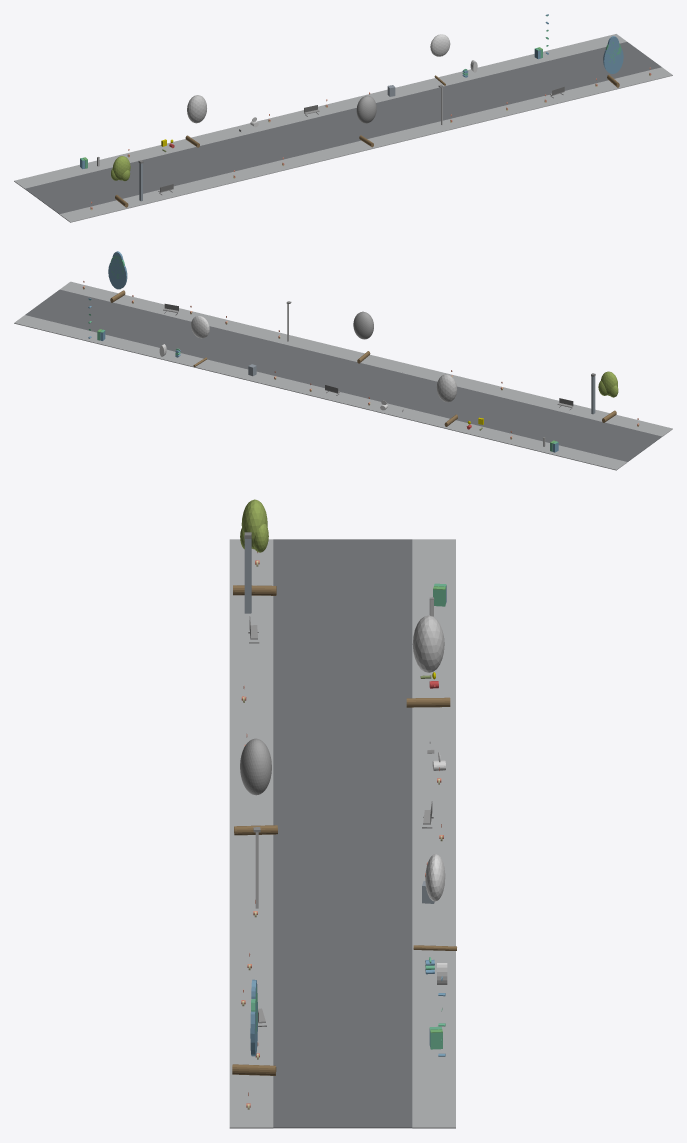
The picture shows the model from 3 angles, top to bottom: view 1: azimuth 30°, elevation 25°; view 2: azimuth 150°, elevation 25°; view 3: azimuth 270°, elevation 25°; orthographic projection. The views are drawn at different scales.
Parts seen in each view (by area): view 1: road_slab, sidewalk_left, sidewalk_right, inst_0016, inst_0013, inst_0014, inst_0012, inst_0015; view 2: road_slab, sidewalk_right, sidewalk_left, inst_0016, inst_0013, inst_0014, inst_0012, inst_0015; view 3: road_slab, sidewalk_left, sidewalk_right, inst_0013, inst_0014, inst_0012, inst_0016, inst_0015.
Part boxes in pixels (left/top/right/bottom): road_slab: left=25, top=42, right=661, bottom=214; sidewalk_left: left=59, top=67, right=672, bottom=222; sidewalk_right: left=14, top=34, right=626, bottom=188; inst_0016: left=603, top=36, right=623, bottom=87; inst_0013: left=185, top=95, right=206, bottom=147; inst_0014: left=356, top=95, right=376, bottom=147; inst_0012: left=111, top=156, right=130, bottom=207; inst_0015: left=430, top=34, right=450, bottom=85; road_slab: left=25, top=289, right=661, bottom=461; sidewalk_right: left=14, top=315, right=627, bottom=470; sidewalk_left: left=60, top=281, right=672, bottom=436; inst_0016: left=108, top=251, right=127, bottom=302; inst_0013: left=436, top=374, right=457, bottom=426; inst_0014: left=353, top=311, right=373, bottom=363; inst_0012: left=598, top=371, right=618, bottom=422; inst_0015: left=191, top=315, right=209, bottom=367; road_slab: left=273, top=539, right=412, bottom=1128; sidewalk_left: left=229, top=539, right=273, bottom=1128; sidewalk_right: left=412, top=539, right=455, bottom=1128; inst_0013: left=406, top=615, right=450, bottom=707; inst_0014: left=234, top=738, right=277, bottom=835; inst_0012: left=233, top=499, right=276, bottom=595; inst_0016: left=232, top=979, right=276, bottom=1075; inst_0015: left=413, top=854, right=456, bottom=950.
Size of the model in its own units: 80 by 6.08 by 13.07.
